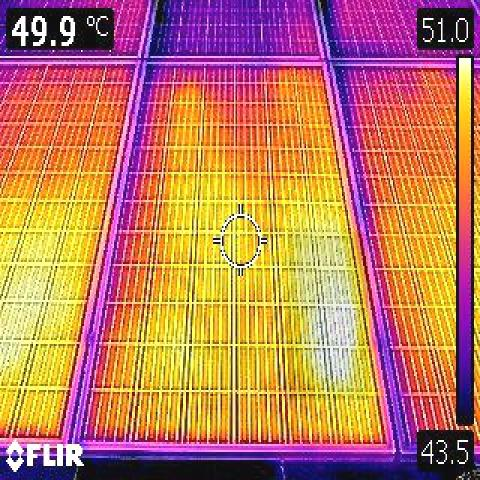fault: (287, 232, 368, 400), (0, 270, 61, 387)
